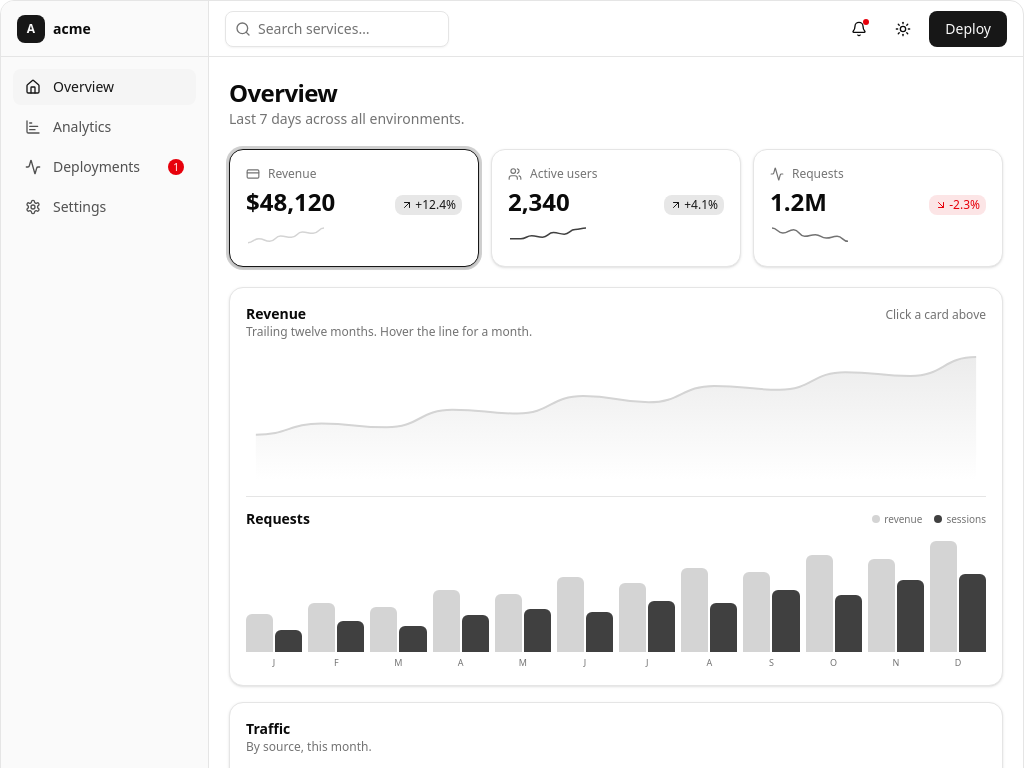
Scenario: the dashboard › filters the table from the header search
Type "orders" into the field labelled "Search services" at (337,28), box [225,10,449,46]
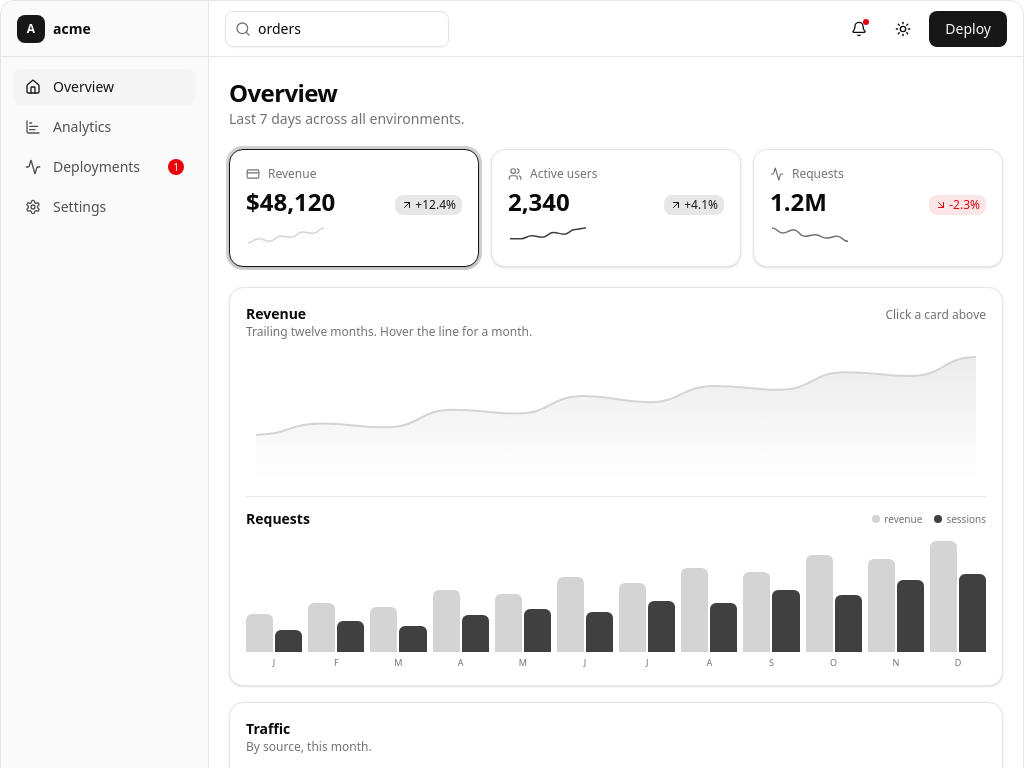
Replace the text in the field named "Search services" with "zzz" at (337,28), box [225,10,449,46]
(page scrolled)
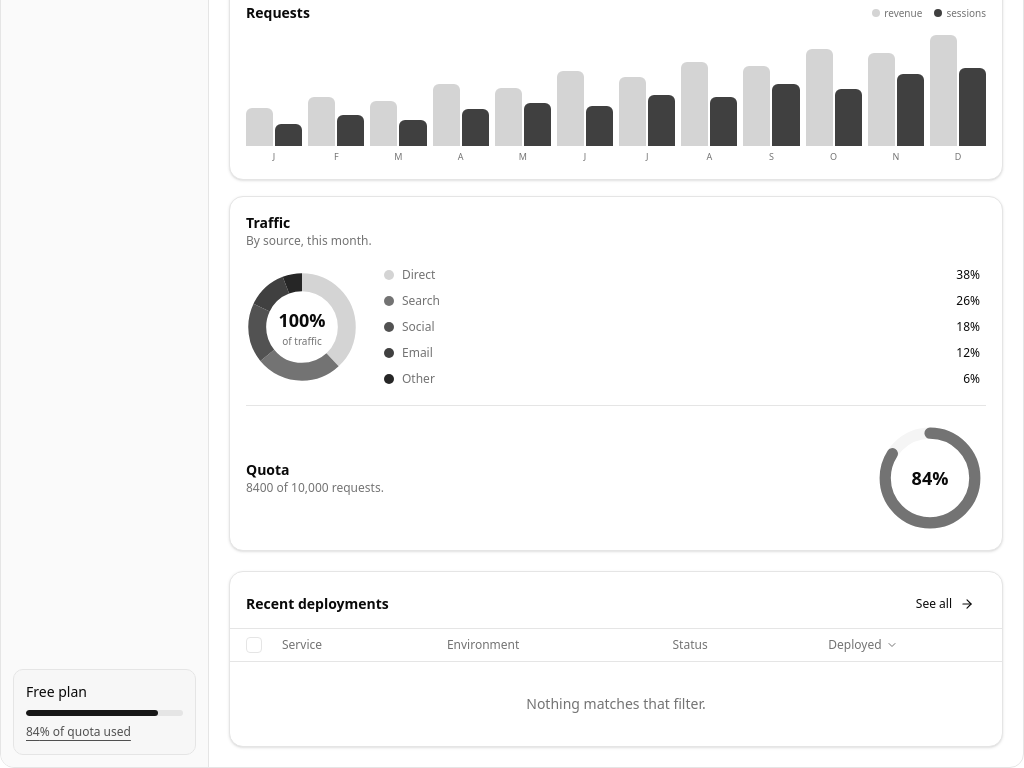
Expected: the text "Nothing matches that filter." is shown, [230,662,1002,746]
